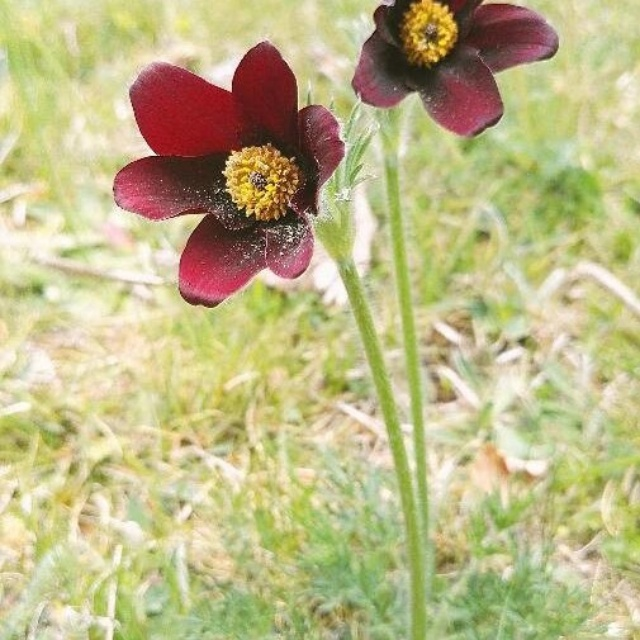obstacle: (132, 32, 489, 635)
